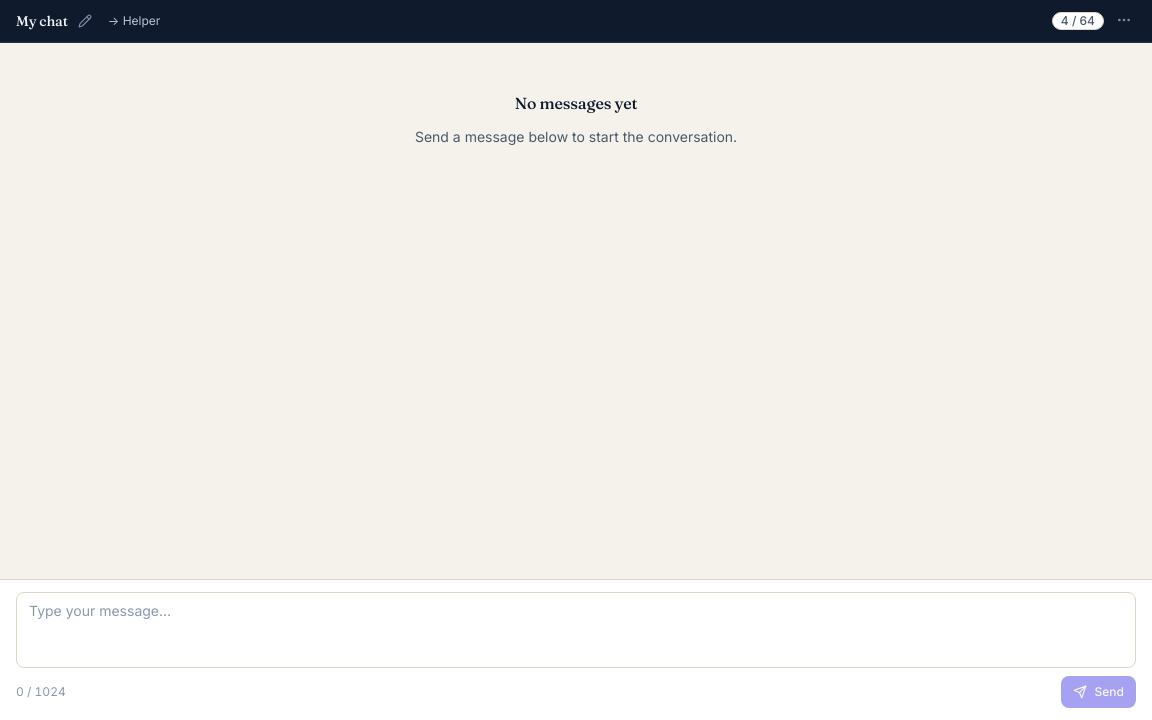
Test: ConversationPage › Rename: pencil → save propagates to topbar title
Expected: the heading with test id "conversation-title" reads "My chat", [16,12,68,30]
Click the button named "rename conversation" at point(85, 21), box [74,10,96,32]
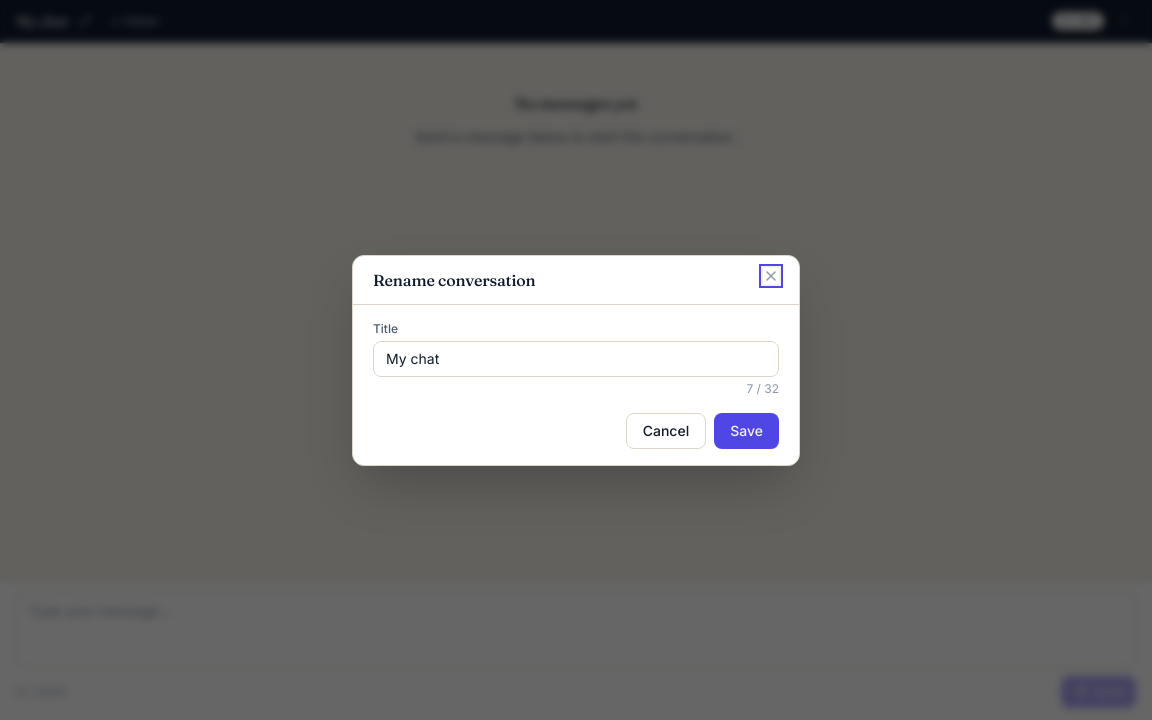
Replace the text in the field labelled "Title" with "Renamed" at point(576, 358), box [373,340,779,376]
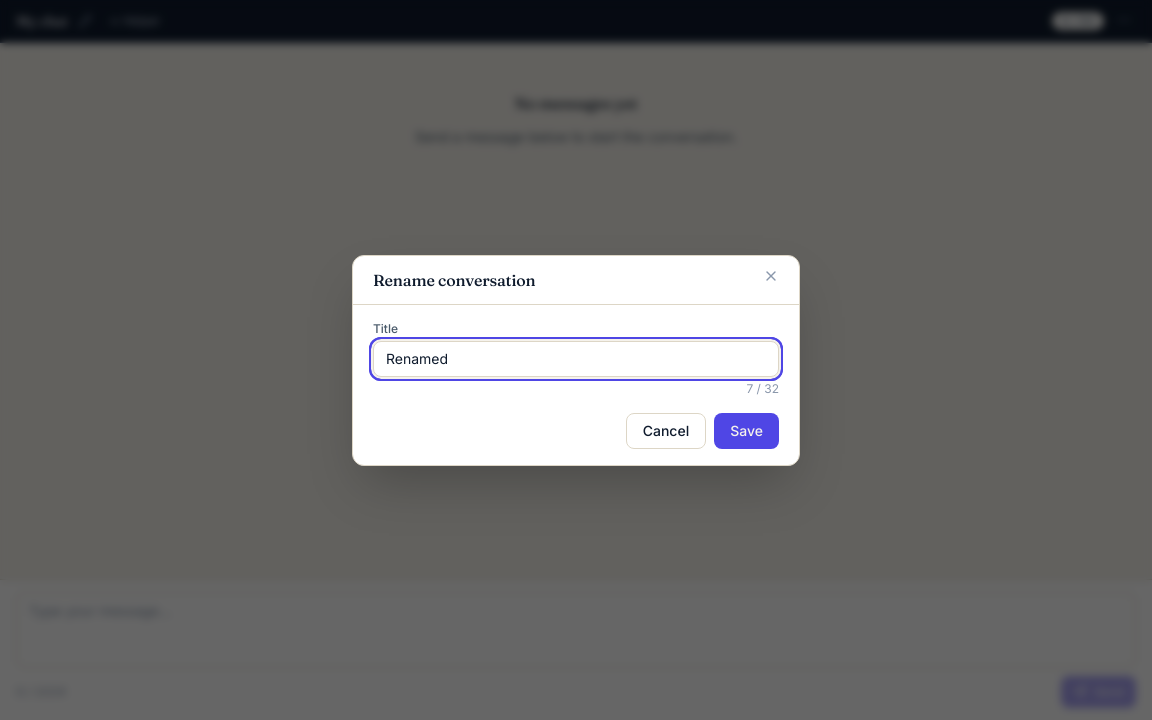
Click the button "Save" at point(747, 430), box [714,412,779,448]
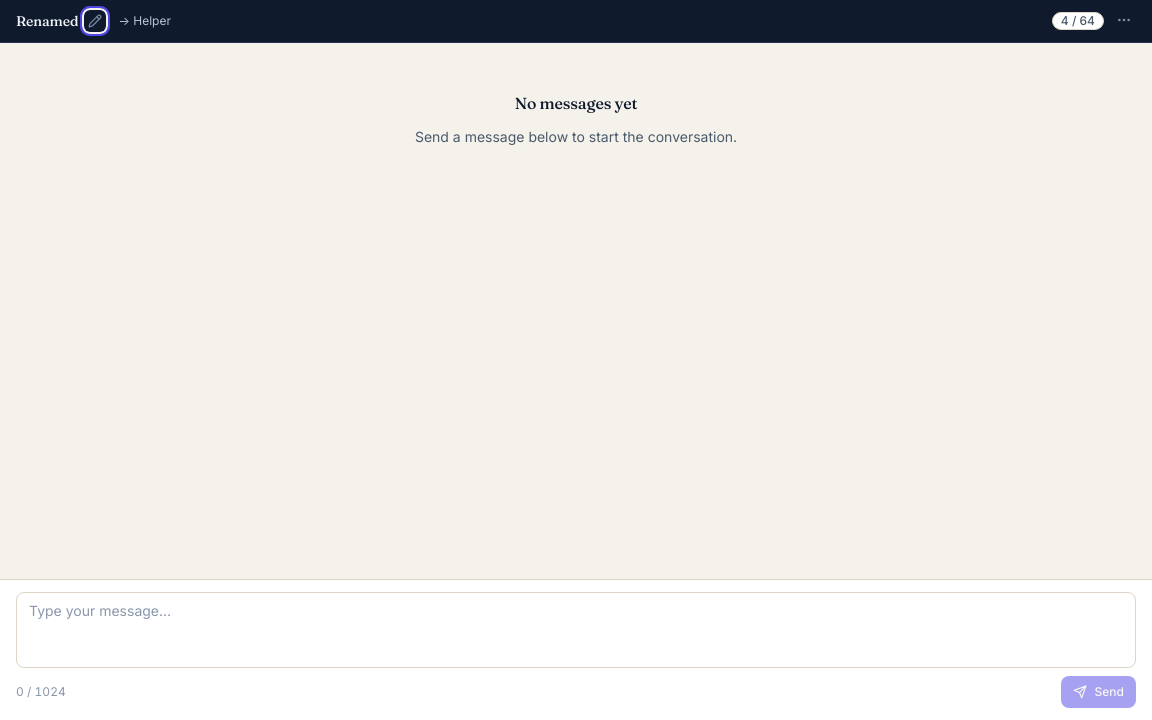
Now the heading with test id "conversation-title" reads "Renamed", box [16,12,78,30]
